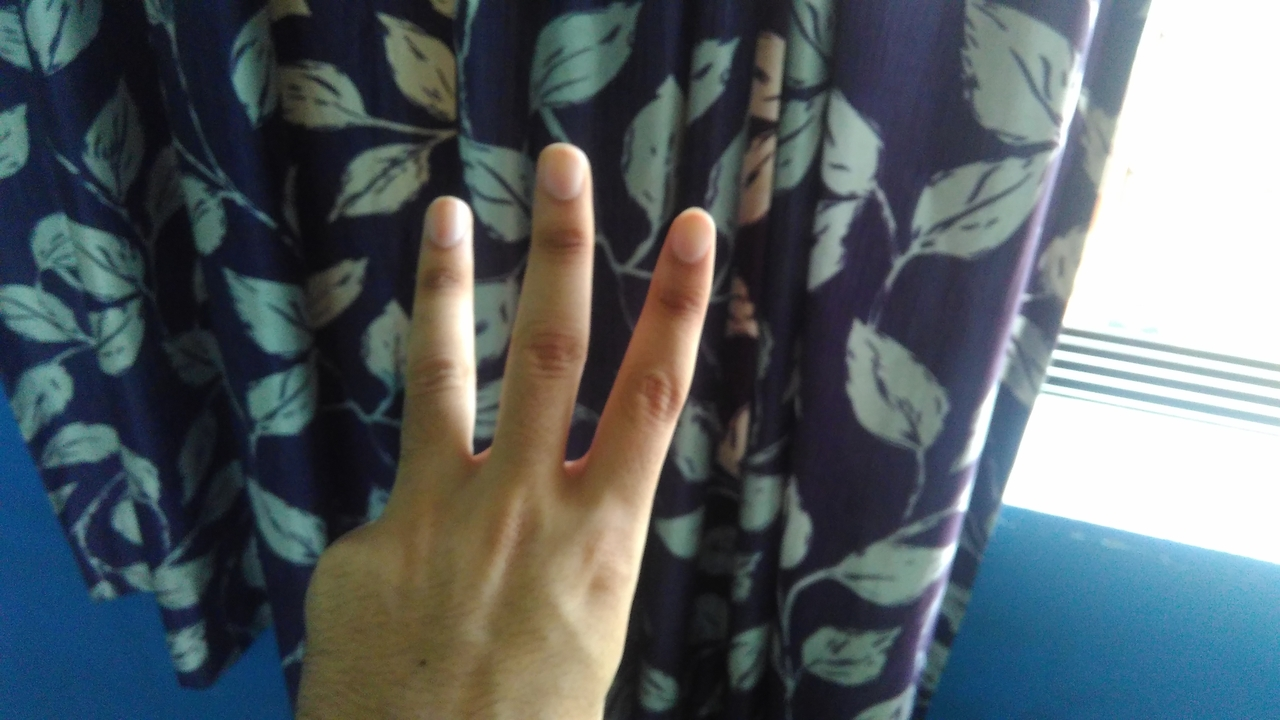fingertip: (658, 200, 720, 268), (530, 134, 588, 206), (414, 186, 472, 254)
